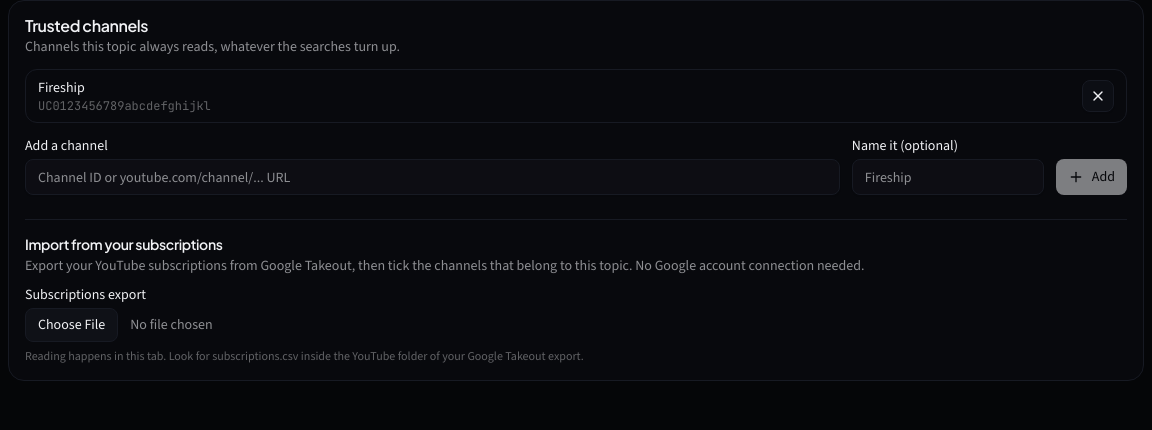
Scenario: TopicChannelsCard when the request itself fails › still reports a refusal the action handed back
Click the button named "Remove Fireship" at (1098, 96), box [1082,80,1114,112]
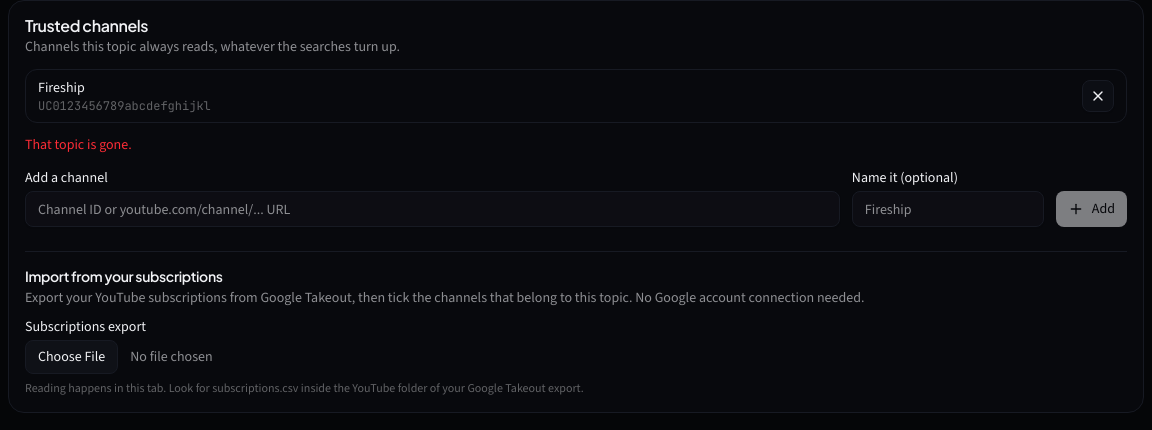
Expected: the text "That topic is gone." is shown, [25,135,132,154]
